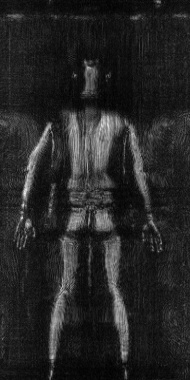gun: (41, 181, 62, 228)
